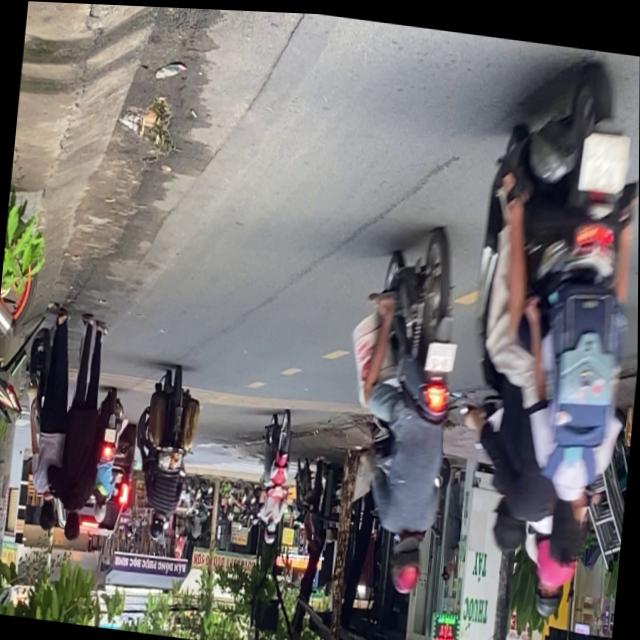helmet: (388, 530, 425, 592), (532, 558, 568, 614), (148, 513, 167, 540)
licenseplate: (440, 41, 640, 624), (330, 216, 474, 599), (131, 361, 205, 546)
motorcyclist: (544, 478, 592, 565)
nohelmet: (577, 123, 630, 189), (426, 338, 456, 369)
